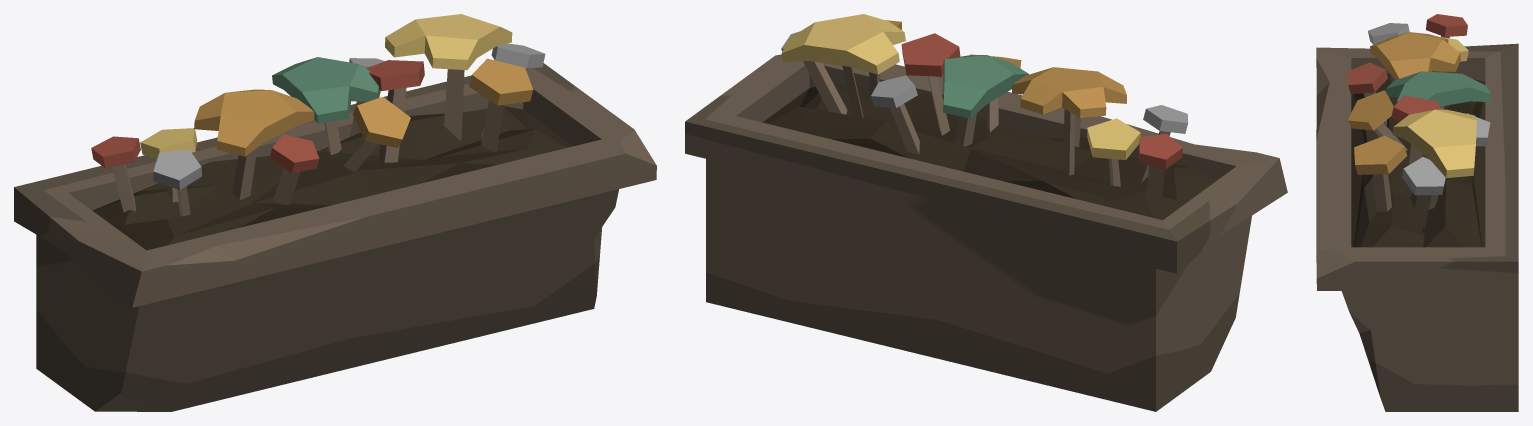
The model's file is SM_Prop_FlowerPot_05.obj.
3 renders of one model, left to right at view 1: azimuth 30°, elevation 25°; view 2: azimuth 150°, elevation 25°; view 3: azimuth 270°, elevation 25°, orthographic. The views are drawn at different scales.
Parts seen in each view (by area): view 1: SM_Prop_FlowerPot_05_0; view 2: SM_Prop_FlowerPot_05_0; view 3: SM_Prop_FlowerPot_05_0.
Part boxes in pixels (<box>): SM_Prop_FlowerPot_05_0: <box>14,14,656,411</box>; SM_Prop_FlowerPot_05_0: <box>685,14,1287,411</box>; SM_Prop_FlowerPot_05_0: <box>1316,14,1518,411</box>.
Bounding box in the file's own units: 0.8729 × 0.4556 × 0.3419.
Materials: 1 (1 with a texture image).
